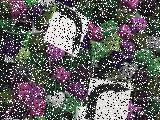Right: (44, 1, 90, 57), (84, 78, 132, 120)
